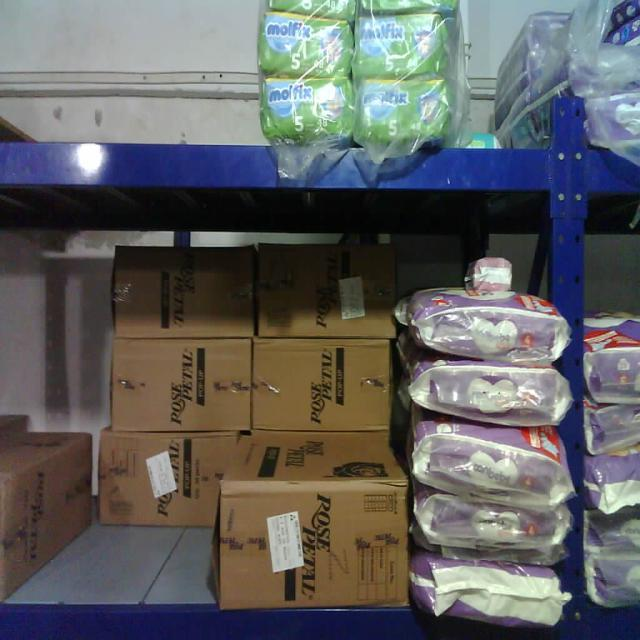box: (218, 502, 409, 602), (261, 245, 396, 342), (112, 243, 251, 337), (250, 343, 392, 430), (100, 430, 221, 530), (115, 347, 249, 428)
